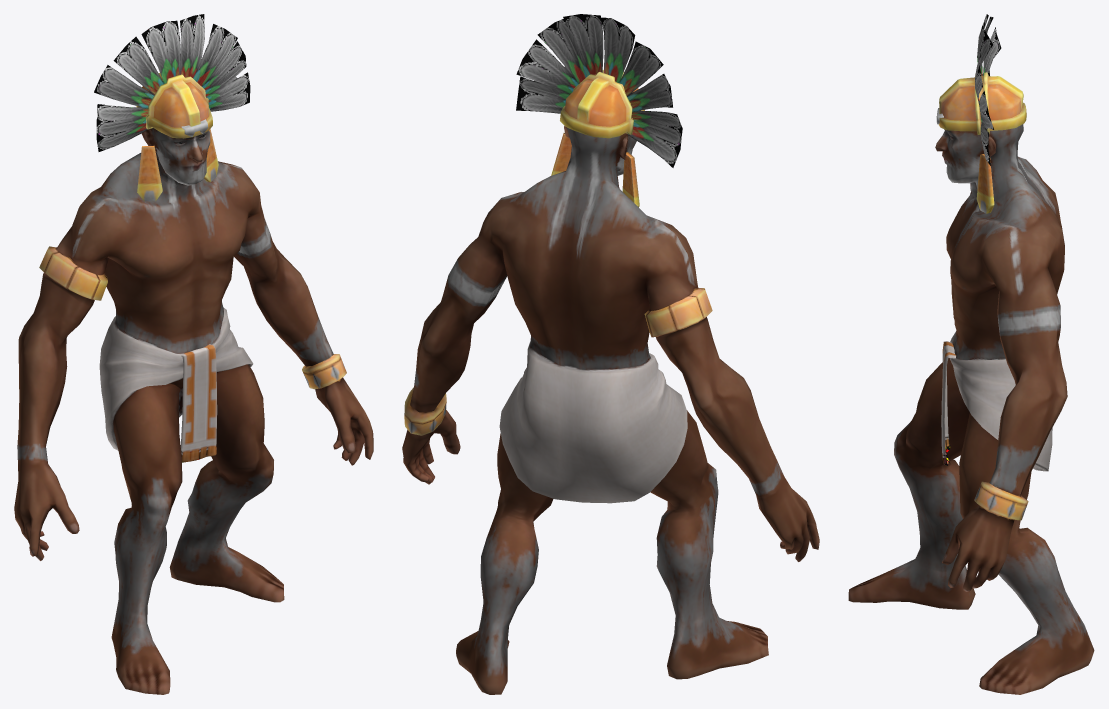
The model's file is 233-quinametzin.glb.
3 views of the same model, side by side, from view 1: azimuth 30°, elevation 25°; view 2: azimuth 150°, elevation 25°; view 3: azimuth 270°, elevation 25° (orthographic). The views are drawn at different scales.
Bounding box in the file's own units: 3.51 × 5.7 × 2.07.
Materials: 1 (1 with a texture image).
